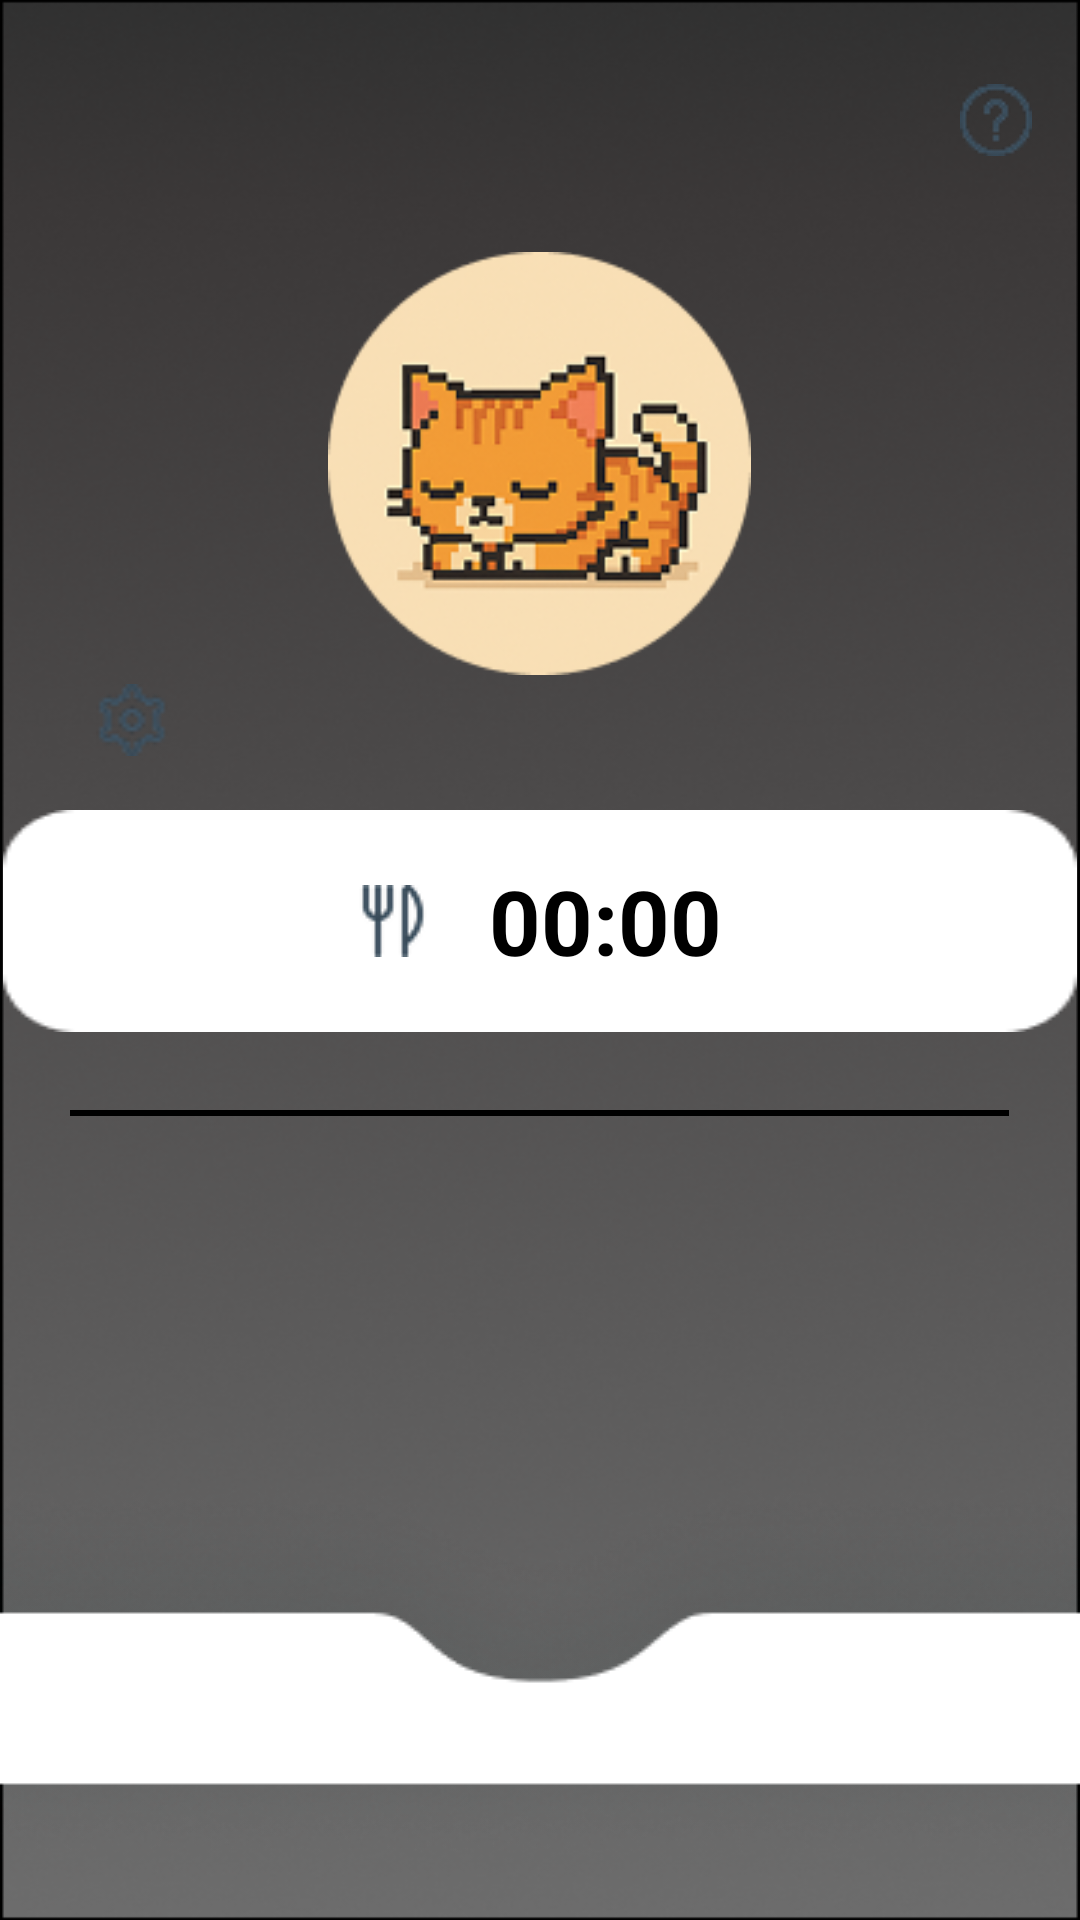

Locate icon controls on the screen. Image size 1080px×1920px, boxes as (x1, y1, x2, y2).
advice: (960, 84, 1032, 156)
fork: (362, 885, 424, 957)
settings: (101, 689, 163, 751)
